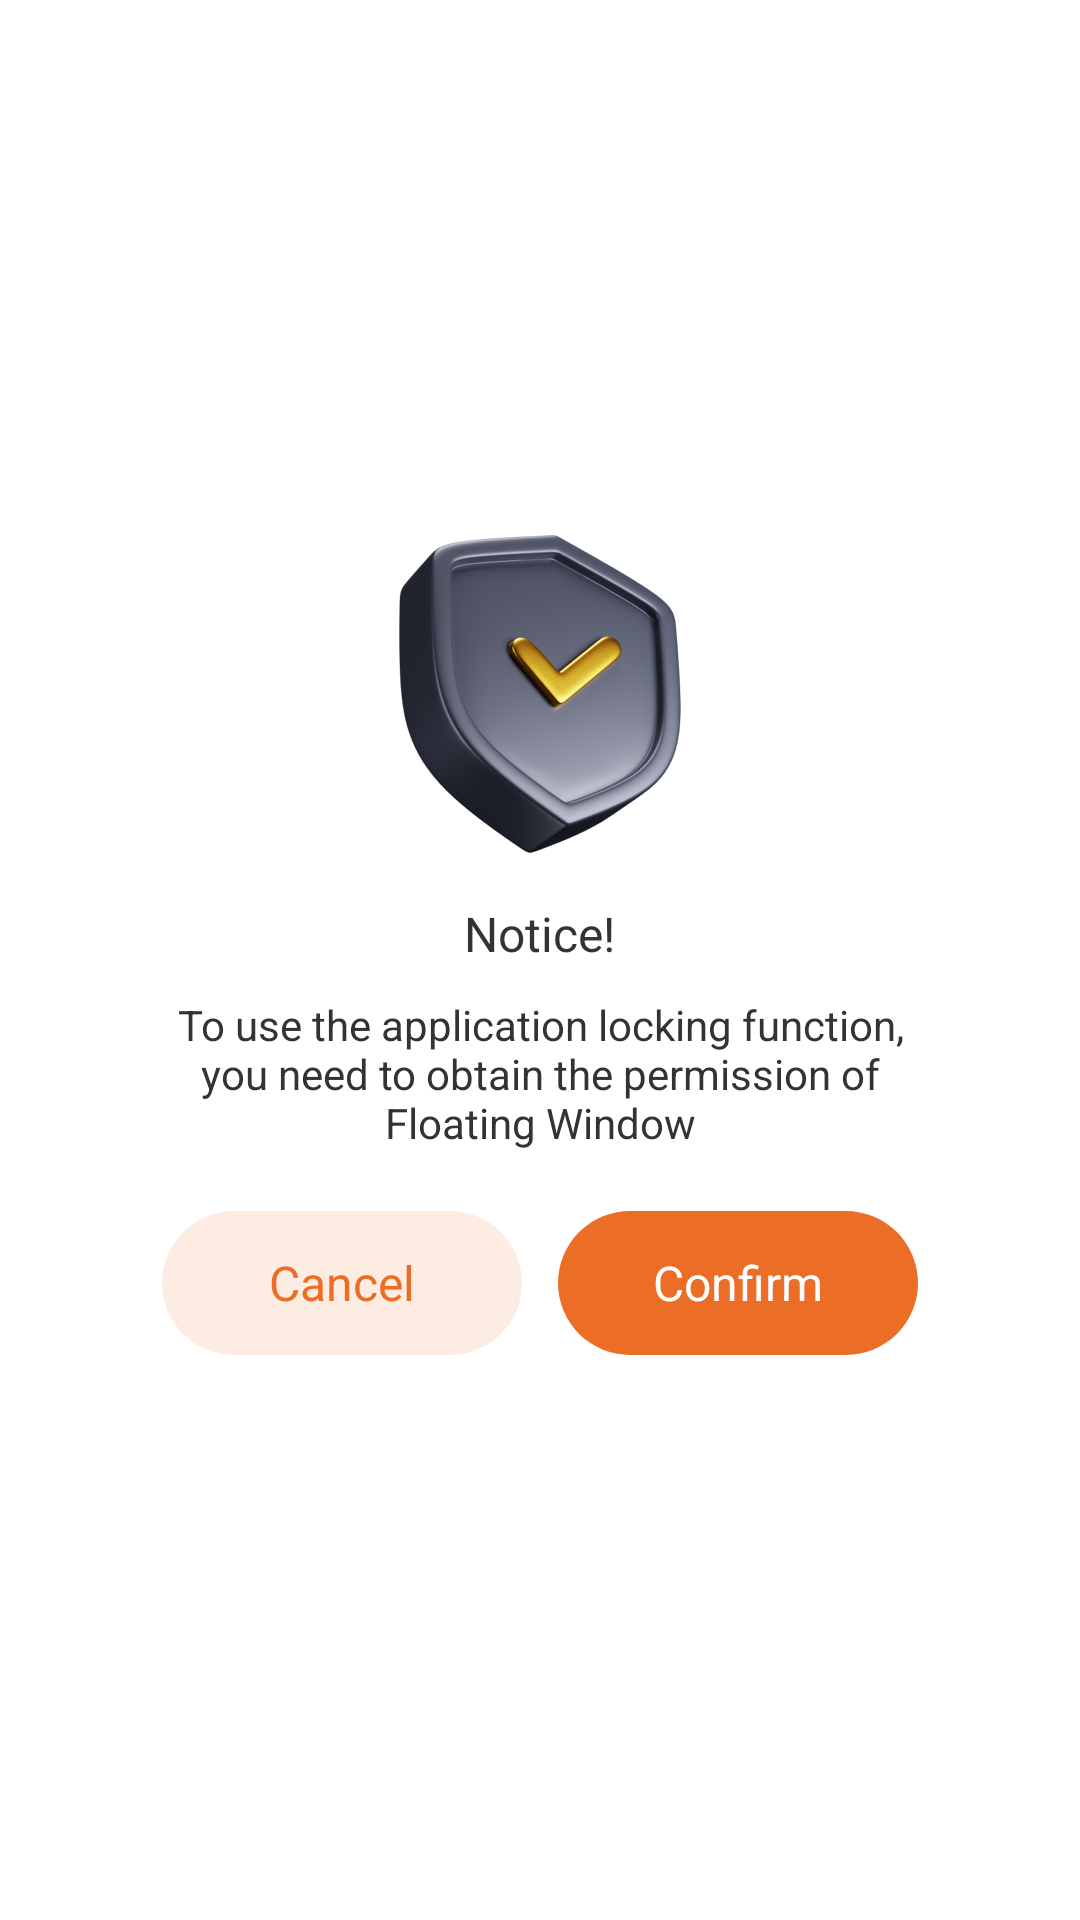

Screen size 1080x1920. Icon name, then its box in pixels as (x1, y1, x2, y2):
success: (399, 535, 681, 853)
